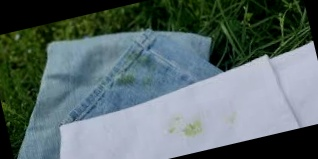earth: (169, 119, 204, 142), (127, 50, 152, 70), (114, 73, 135, 90)
